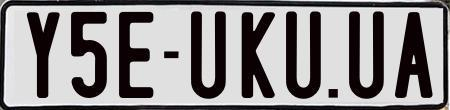5: (69, 10, 109, 100)
A: (393, 9, 433, 96)
E: (116, 9, 150, 95)
K: (241, 10, 275, 101)
U: (191, 9, 229, 103), (346, 10, 385, 100), (286, 11, 322, 104)
Y: (26, 9, 64, 95)
